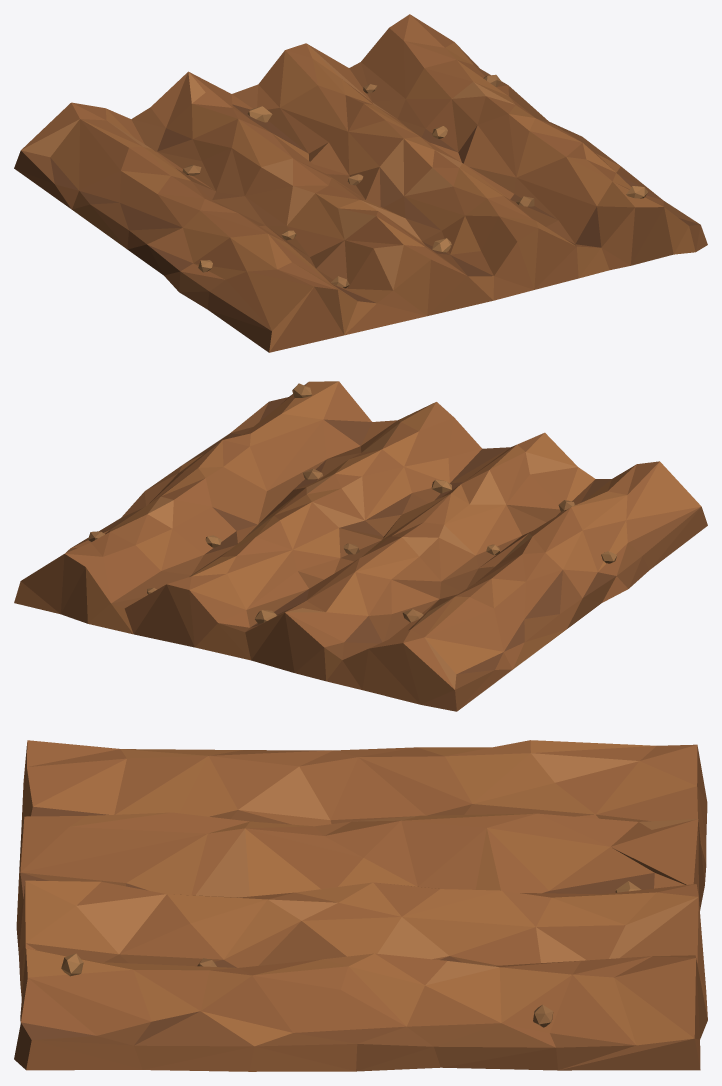
File: Irrigated Soil Patch.glb
3 views of the same model, one above another, from view 1: azimuth 30°, elevation 25°; view 2: azimuth 150°, elevation 25°; view 3: azimuth 270°, elevation 25° (orthographic). The views are drawn at different scales.
Parts seen in each view (by area): view 1: Irrigated Soil Patch; view 2: Irrigated Soil Patch; view 3: Irrigated Soil Patch.
Boxes of the visible parts, <box> form: Irrigated Soil Patch: <box>14,14,707,352</box>; Irrigated Soil Patch: <box>14,381,707,711</box>; Irrigated Soil Patch: <box>14,740,707,1071</box>.
Bounding box in the file's own units: 0.6 × 0.0769 × 0.6.
